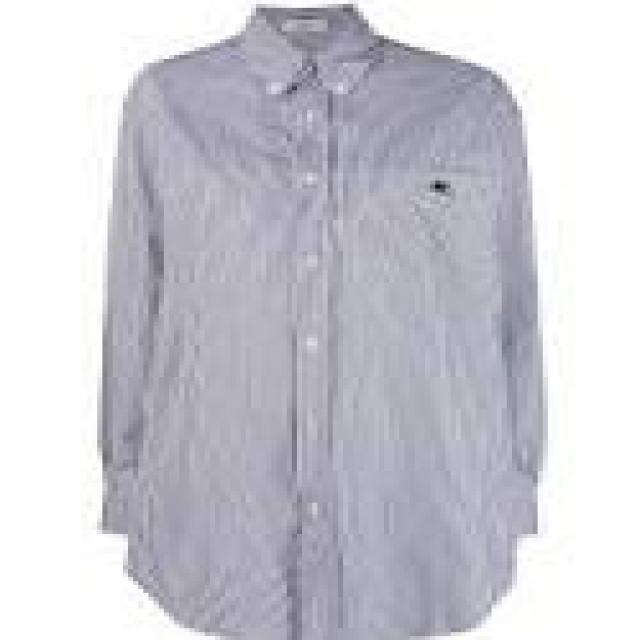plain: (97, 6, 553, 633)
